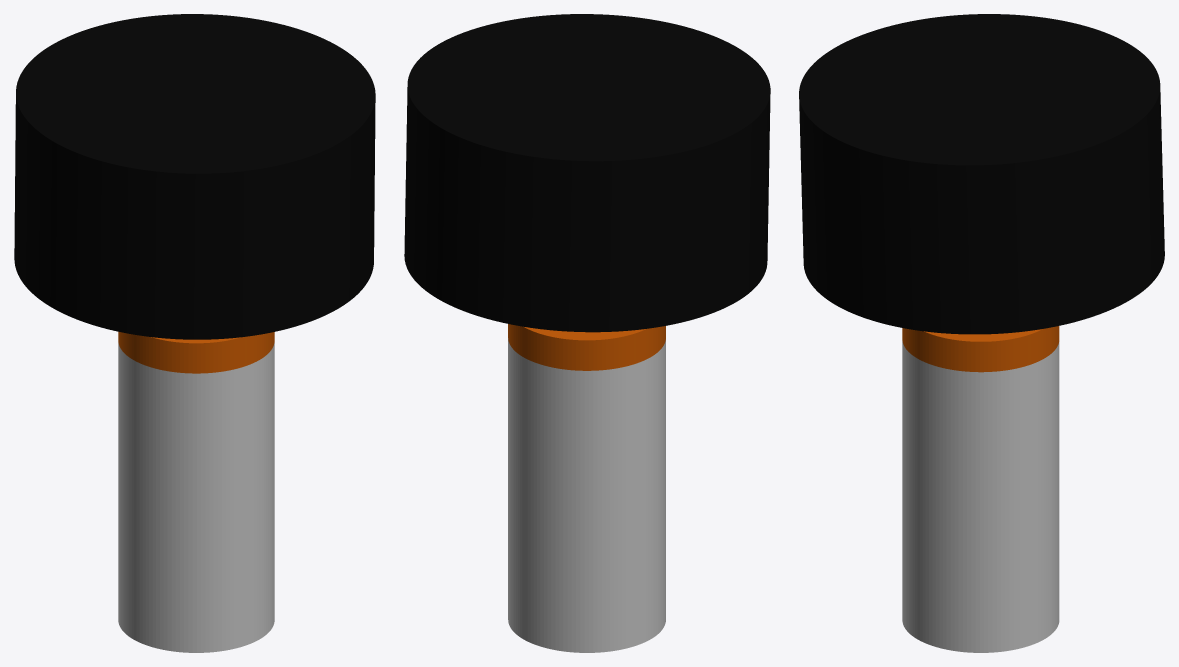
File: lamp29.obj
The picture shows the model from 3 angles, left to right: view 1: azimuth 30°, elevation 25°; view 2: azimuth 150°, elevation 25°; view 3: azimuth 270°, elevation 25°; orthographic projection.
Parts seen in each view (by area): view 1: Cylinder.002, Cylinder, Cylinder.001; view 2: Cylinder.002, Cylinder, Cylinder.001; view 3: Cylinder.002, Cylinder, Cylinder.001.
Boxes of the visible parts, x1,y1,x2,y2 form: Cylinder.002: (14,14,375,339); Cylinder: (118,343,274,652); Cylinder.001: (118,331,274,373); Cylinder.002: (404,14,770,332); Cylinder: (508,338,665,652); Cylinder.001: (508,324,665,370); Cylinder.002: (799,14,1164,334); Cylinder: (902,341,1059,652); Cylinder.001: (902,326,1059,372).
Size of what is drawn, in the model's own units: 4.61 by 7.49 by 4.66.
